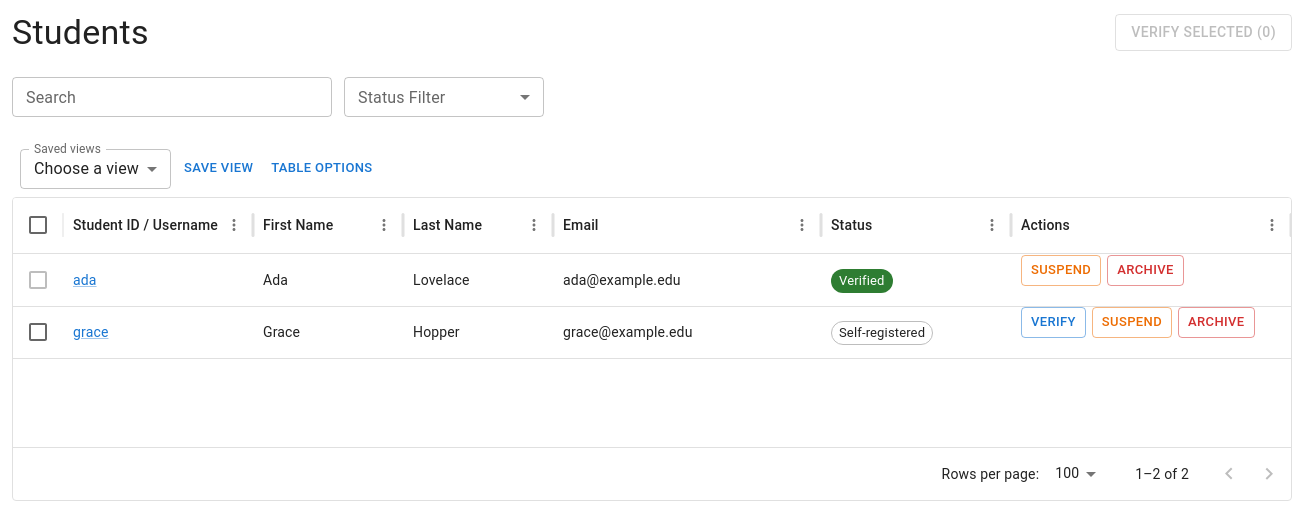
Test: the students page › loads every bounded page and filters the complete student list locally
Check: the text "Ada" is shown, box 263,272 -> 288,288
Check: the text "Grace" is shown, box 253,306 -> 403,358
Type "grace" into the field labelled "Search" at (172, 97), box 12,77 -> 332,117
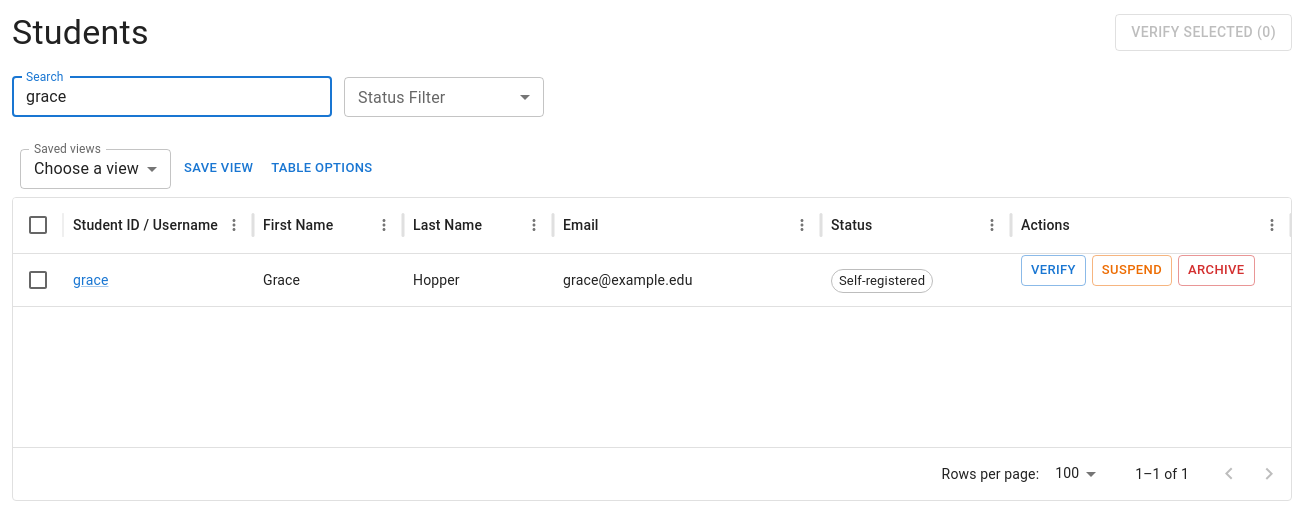
Check: the text "Grace" is shown, box 263,272 -> 300,288
Check: the link "ada" is gone
